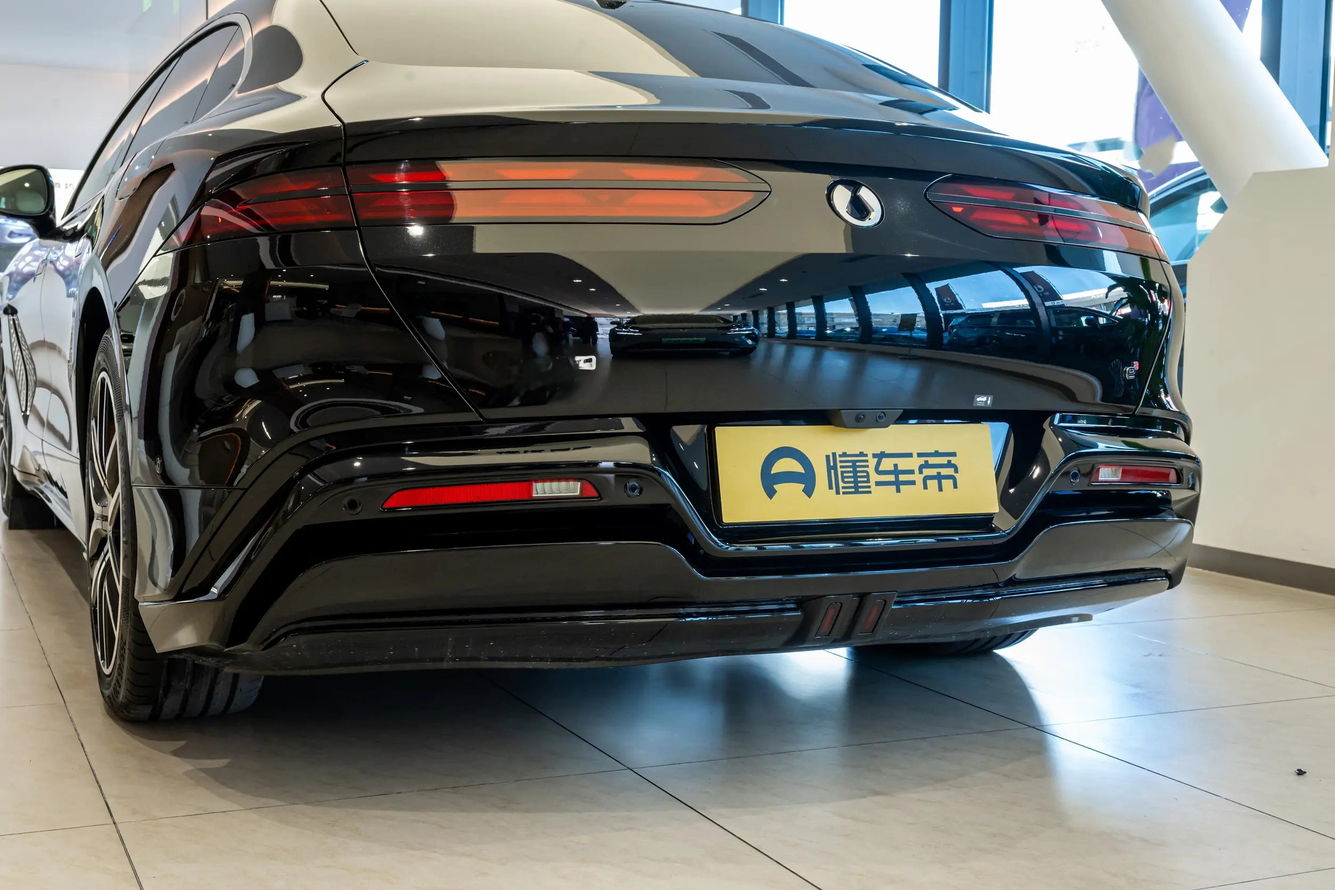DENZA: (834, 184, 881, 225)
